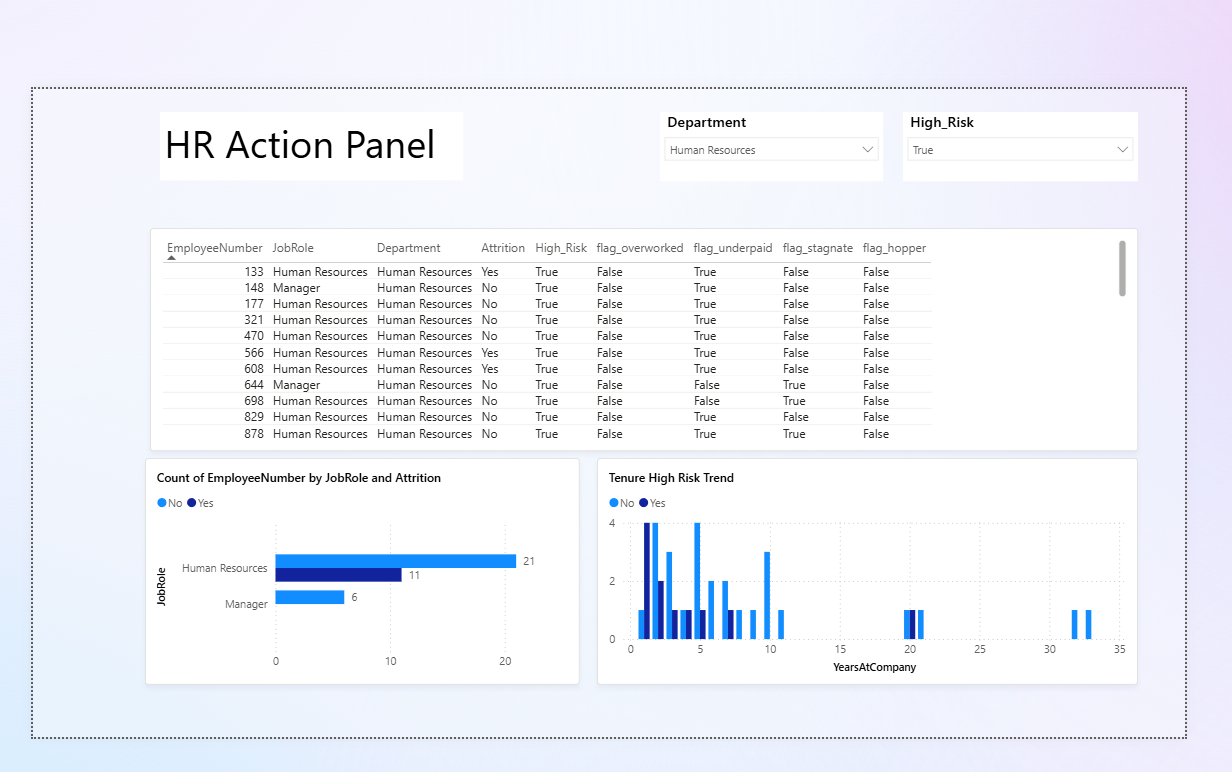

The page's visual inventory and layout, read from the dashboard file:
{"tool":"powerbi","page":{"name":"HR Action","canvas":[1280,720],"ordinal":1},"visuals":[{"type":"slicer","fields":{"Values":["hr_attrition_cleaned.Department"]},"box":[696.7,25.6,247.8,76.7],"z":0},{"type":"slicer","fields":{"Values":["hr_attrition_cleaned.High_Risk"]},"box":[966.7,25.6,261.1,76.7],"z":2},{"type":"tableEx","fields":{"Values":["hr_attrition_cleaned.EmployeeNumber","hr_attrition_cleaned.JobRole","hr_attrition_cleaned.Department","hr_attrition_cleaned.Attrition","hr_attrition_cleaned.High_Risk","hr_attrition_cleaned.flag_overworked","hr_attrition_cleaned.flag_underpaid","hr_attrition_cleaned.flag_stagnate","hr_attrition_cleaned.flag_hopper"]},"box":[130,154.4,1097.8,247.8],"z":4},{"type":"clusteredBarChart","fields":{"Category":["hr_attrition_cleaned.JobRole"],"Y":["CountNonNull(hr_attrition_cleaned.EmployeeNumber)"],"Series":["hr_attrition_cleaned.Attrition"]},"box":[124.4,410,483.3,252.2],"z":5},{"type":"clusteredColumnChart","title":"Tenure  High Risk Trend","fields":{"Category":["hr_attrition_cleaned.YearsAtCompany"],"Y":["CountNonNull(hr_attrition_cleaned.EmployeeNumber)"],"Series":["hr_attrition_cleaned.Attrition"]},"box":[626.7,410,601.1,252.2],"z":6},{"type":"textbox","box":[141.1,25.6,336.7,75.6],"z":7}]}

Visuals, with their boxes on the page's 1280x720 design canvas (x1, y1, x2, y2). These are canvas units, not pixel positions in the 1232x772 screenshot, which may show the page scaled, cropped or inside an application window:
slicer - hr_attrition_cleaned.Department: crop(697, 26, 944, 102)
slicer - hr_attrition_cleaned.High_Risk: crop(967, 26, 1228, 102)
tableEx - hr_attrition_cleaned.EmployeeNumber x hr_attrition_cleaned.JobRole: crop(130, 154, 1228, 402)
clusteredBarChart - hr_attrition_cleaned.JobRole x CountNonNull(hr_attrition_cleaned.EmployeeNumber): crop(124, 410, 608, 662)
"Tenure  High Risk Trend" clusteredColumnChart: crop(627, 410, 1228, 662)
textbox: crop(141, 26, 478, 101)
